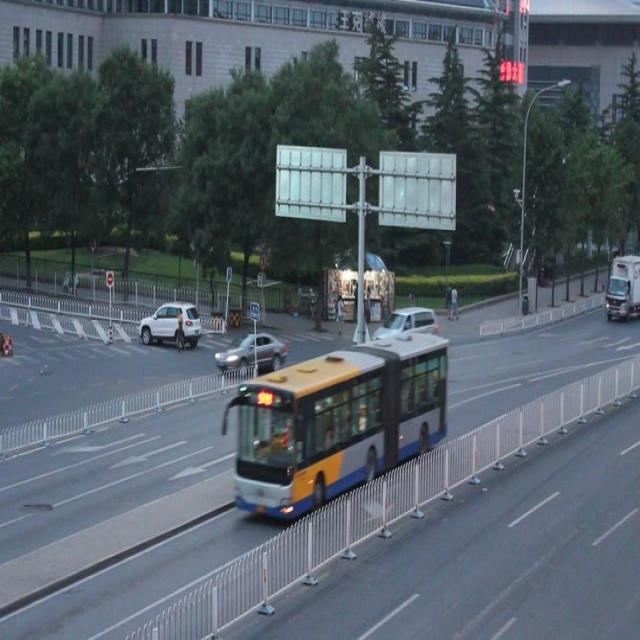bus: (602, 253, 640, 317)
car: (213, 329, 286, 373), (139, 300, 202, 349), (374, 305, 437, 348)
van: (235, 328, 448, 516)
